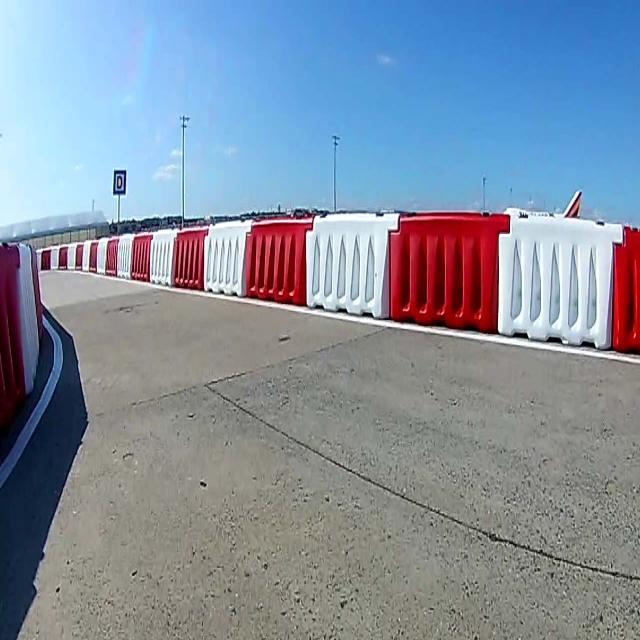durak: (113, 169, 127, 195)
